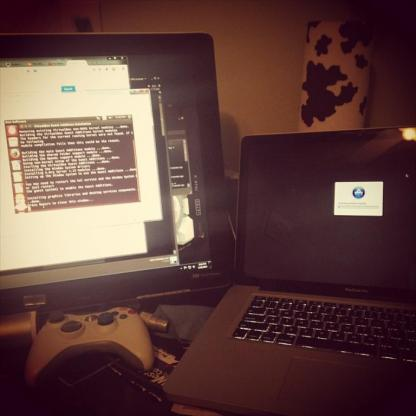board: (160, 124, 416, 416)
